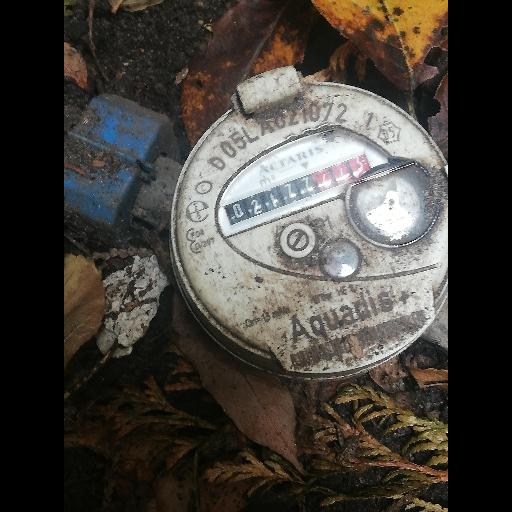0: (228, 199, 249, 223)
1: (262, 186, 285, 212)
2: (245, 193, 267, 218)
3: (348, 153, 373, 179)
6: (330, 161, 353, 186), (313, 168, 335, 193)
7: (278, 179, 301, 205), (296, 173, 318, 198)
border_water_meter_number: (221, 148, 378, 234)
